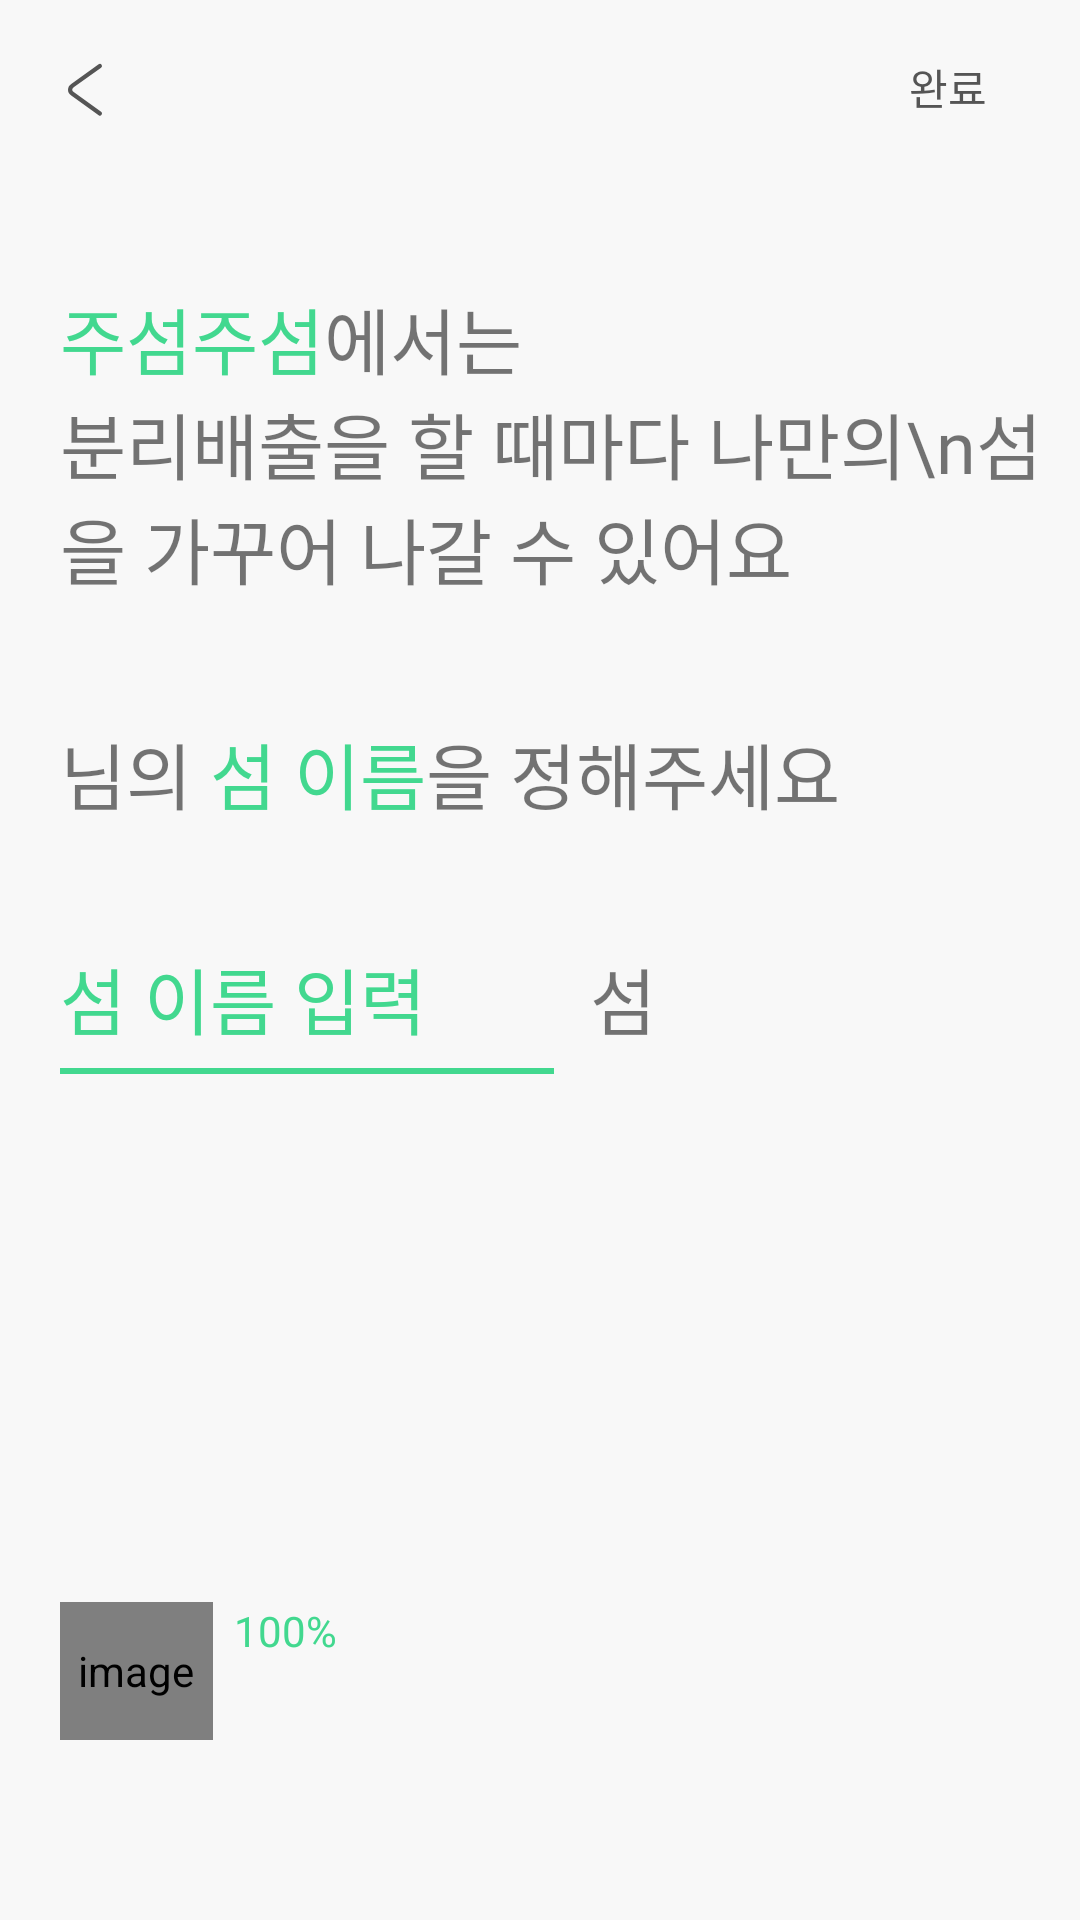

Icon bounding boxes for this 1080px x 1920px phone screenshot, format rect(x1, y1, x2, y2):
arrow back: rect(68, 64, 102, 116)
